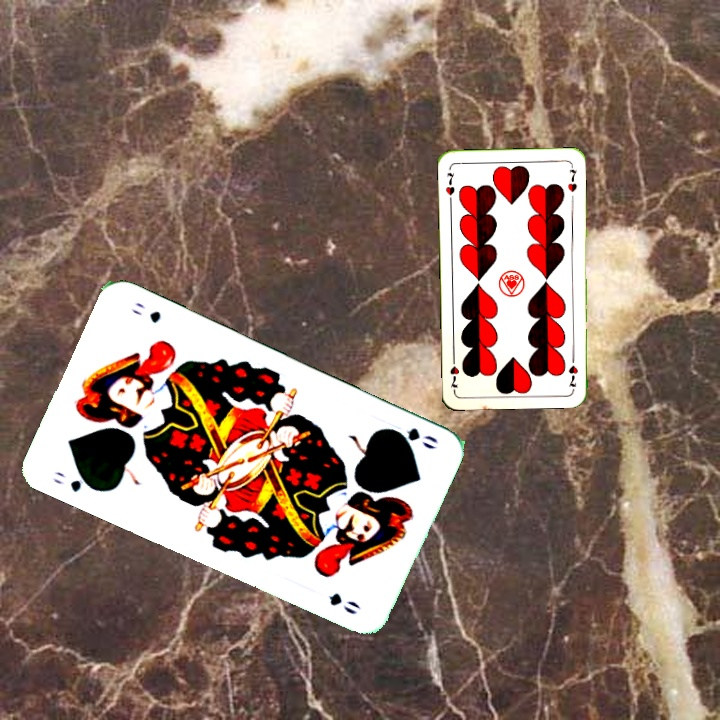GO: (382, 423, 441, 452), (48, 467, 102, 495)
H7: (565, 351, 581, 389), (442, 169, 457, 205)
